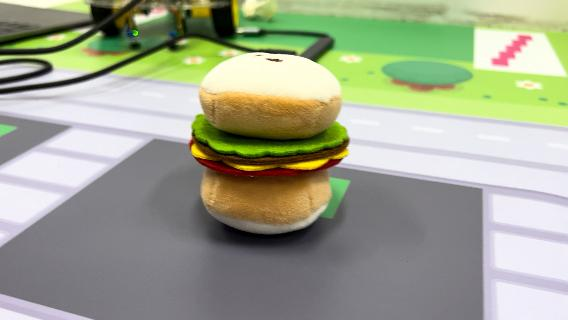sandwich: (188, 49, 352, 235)
